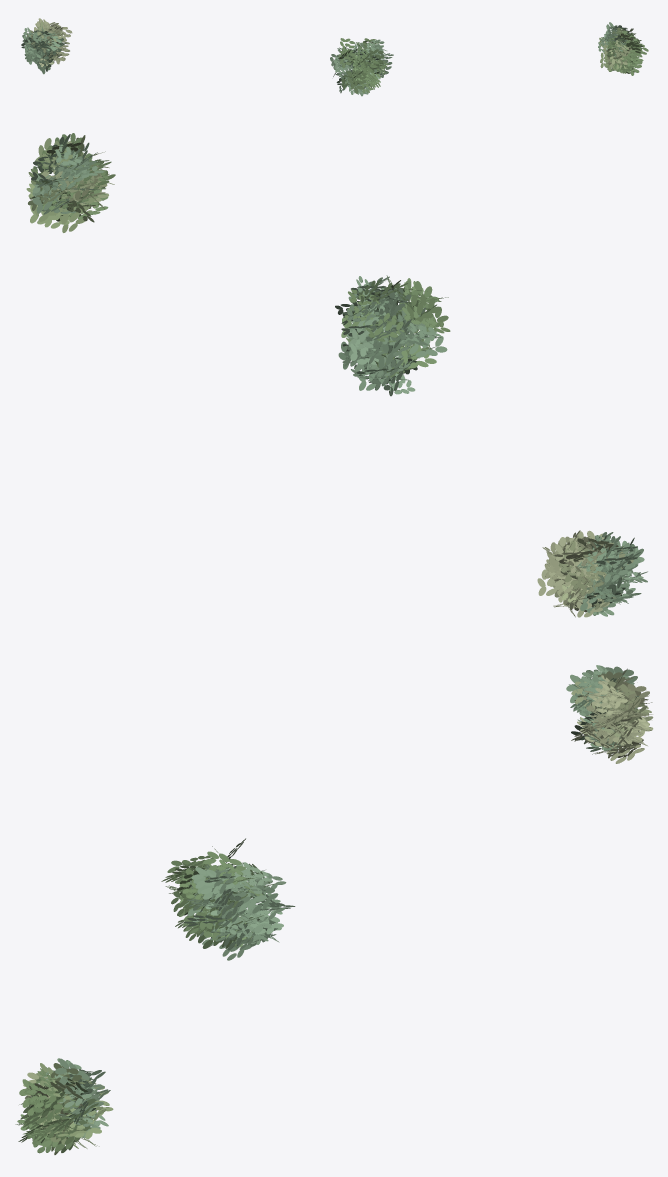
Rendered from campus-tree-4_-1-far.glb.
3 views of the same model, one above another, from view 1: azimuth 30°, elevation 25°; view 2: azimuth 150°, elevation 25°; view 3: azimuth 270°, elevation 25° (orthographic). The views are drawn at different scales.
Visible parts, largest first — view 1: Campus leaf canopy; view 2: Campus leaf canopy; view 3: Campus leaf canopy.
Boxes of the visible parts, left/top/right/bottom form: Campus leaf canopy: left=21, top=18, right=648, bottom=96; Campus leaf canopy: left=26, top=133, right=647, bottom=617; Campus leaf canopy: left=15, top=665, right=653, bottom=1154.
Size of the model in its own units: 50.15 by 6.41 by 31.26.
Materials: 1 (1 with a texture image).
